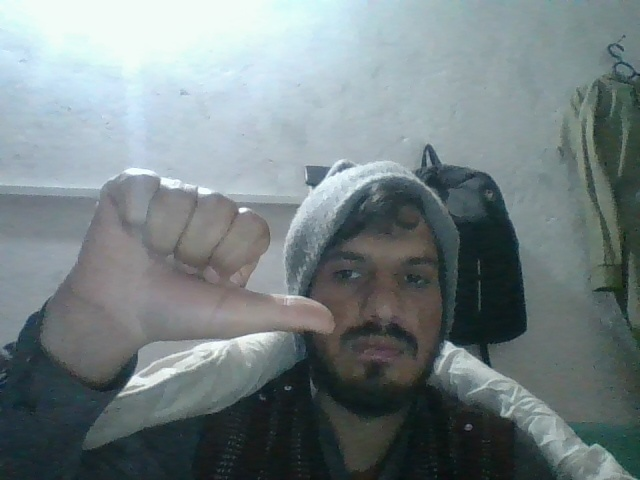ThumbsDown: (64, 166, 339, 343)
